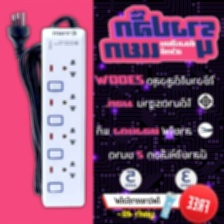three_eye_plug: (39, 25, 89, 211)
